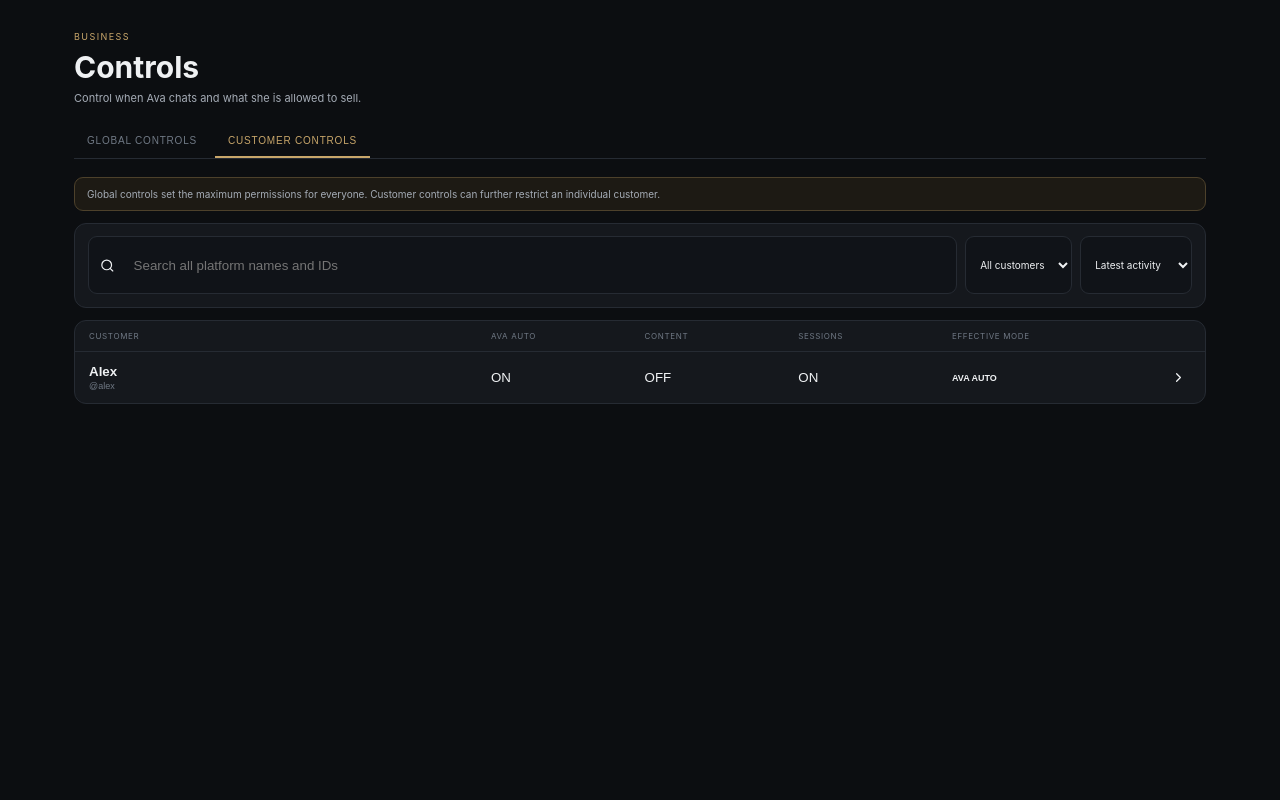
Test: Business Controls › warns accurately before disabling selling around existing obligations
Click the row "Alex @alex ON OFF ON AVA AUTO" at (974, 378), box left=75, top=352, right=1205, bottom=403
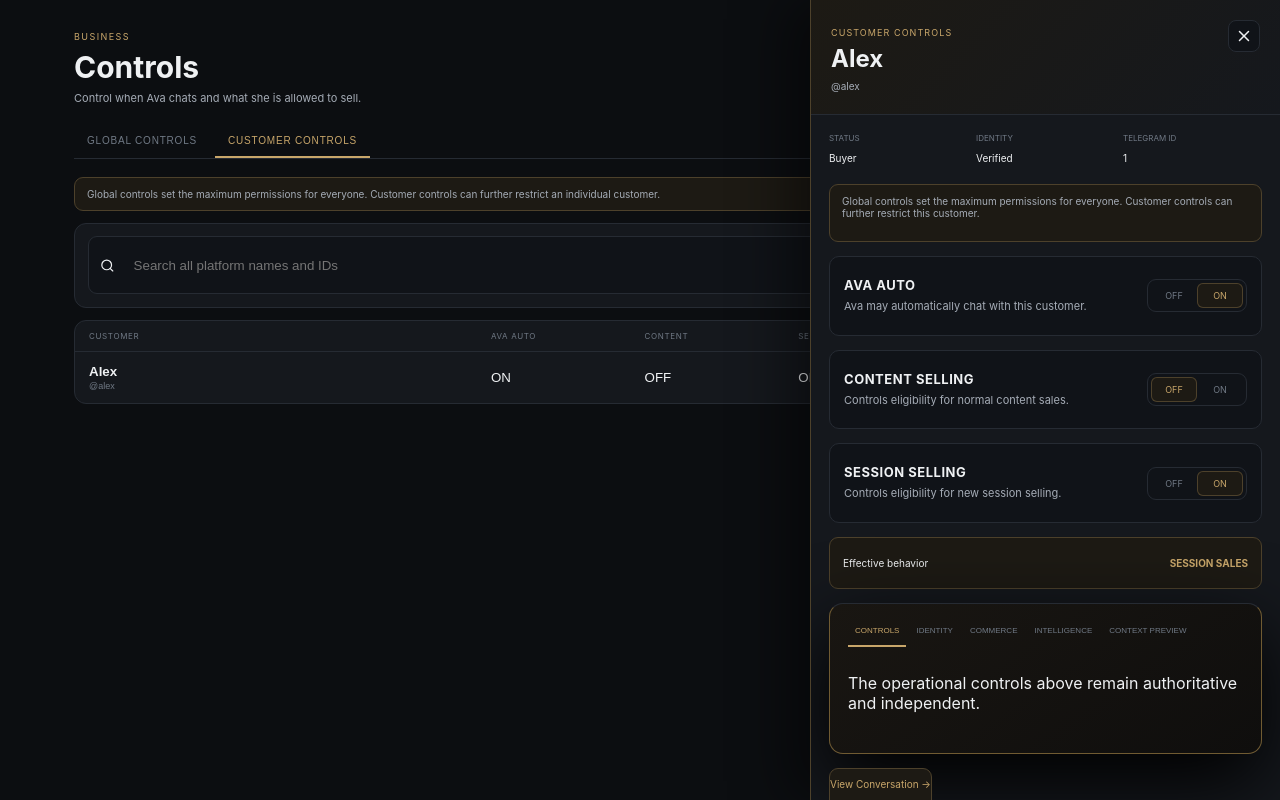
Click the 3rd button "OFF" at (1174, 483), box left=1151, top=470, right=1197, bottom=496
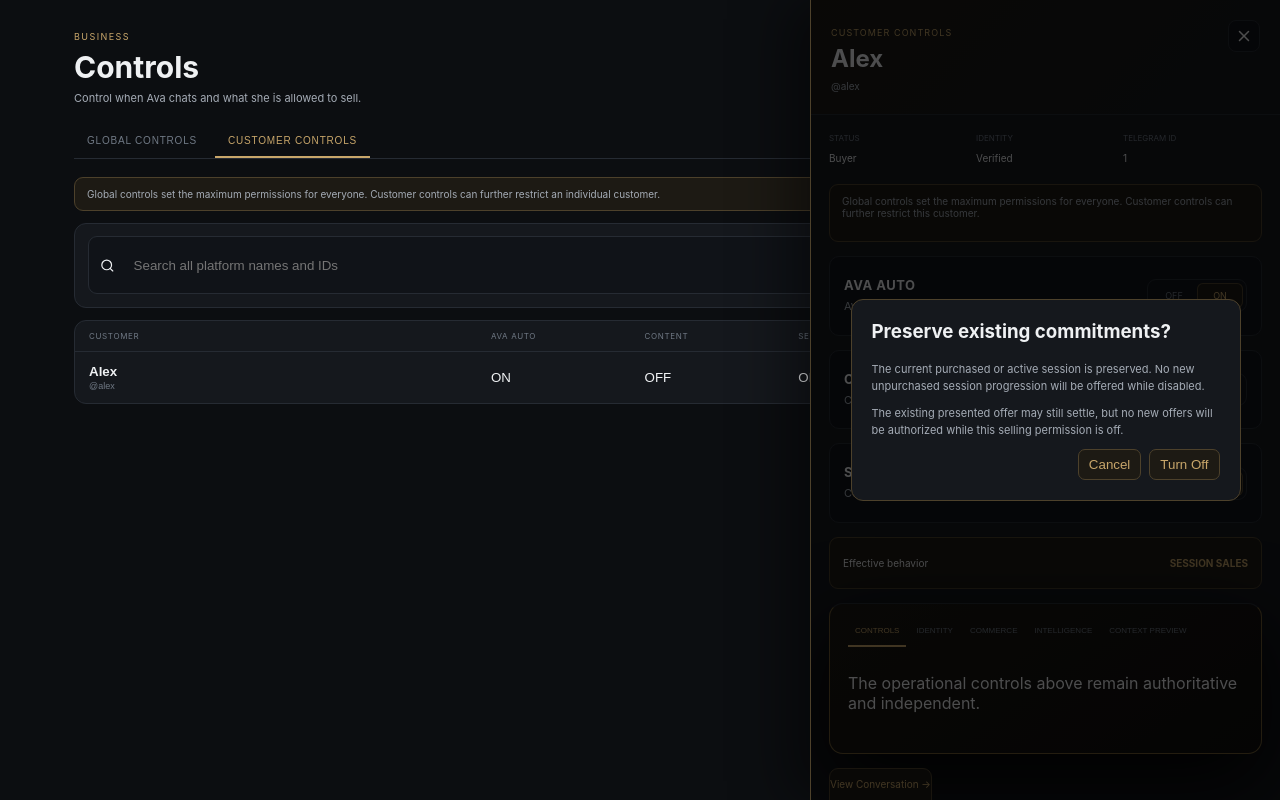
Result: the dialog shows "current purchased or active session is preserved" at left=872, top=362, right=1205, bottom=393
Result: the dialog shows "existing presented offer may still settle" at left=872, top=406, right=1213, bottom=437
